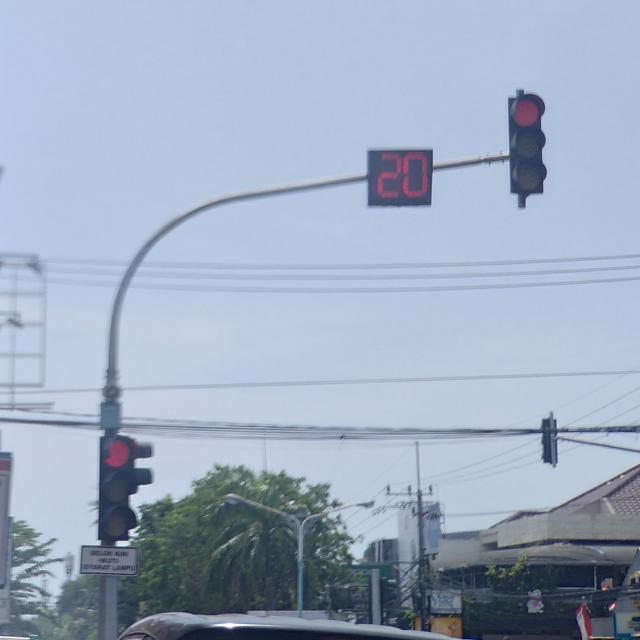red_light: (97, 433, 150, 541), (507, 92, 544, 204)
